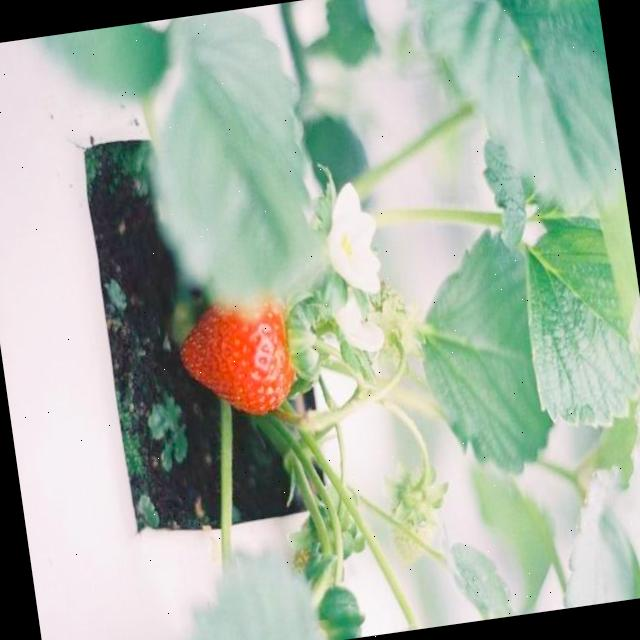strawberry: (174, 280, 299, 422)
